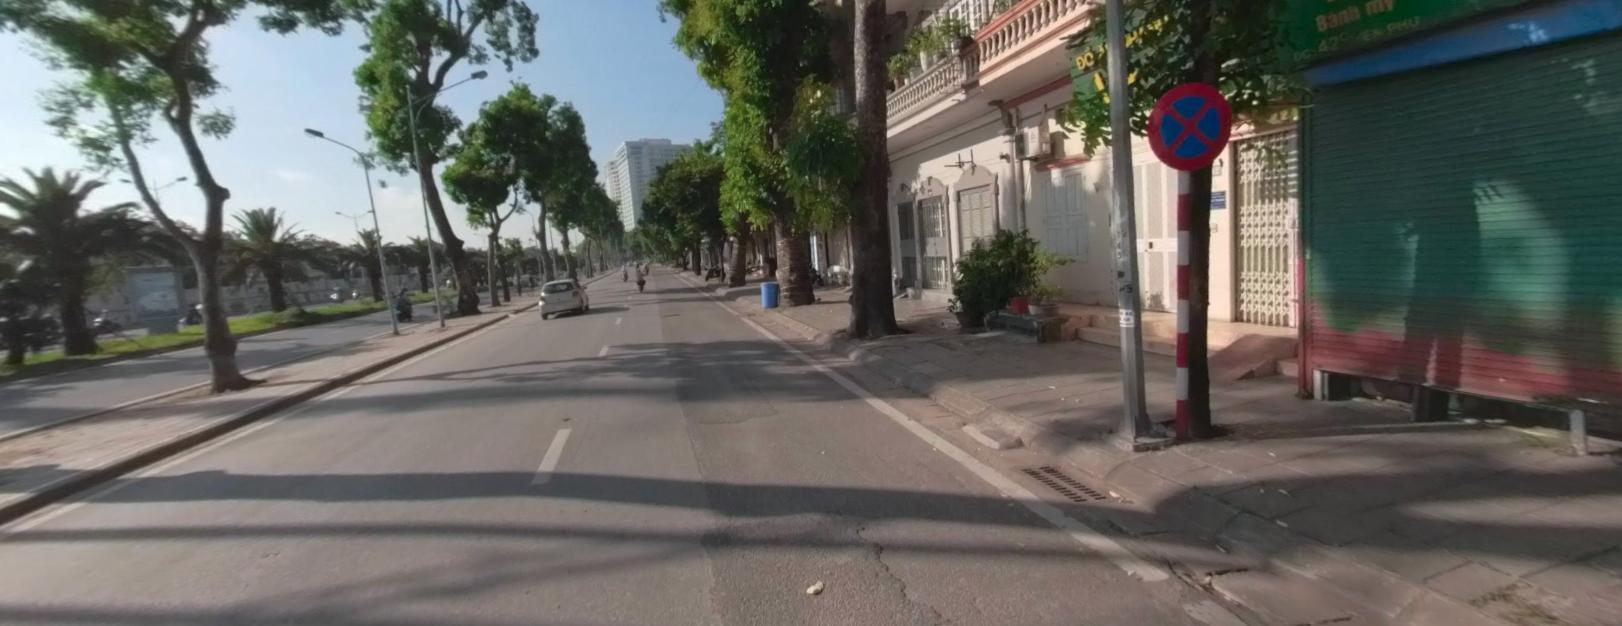Cam dung va do: (1147, 81, 1230, 170)
